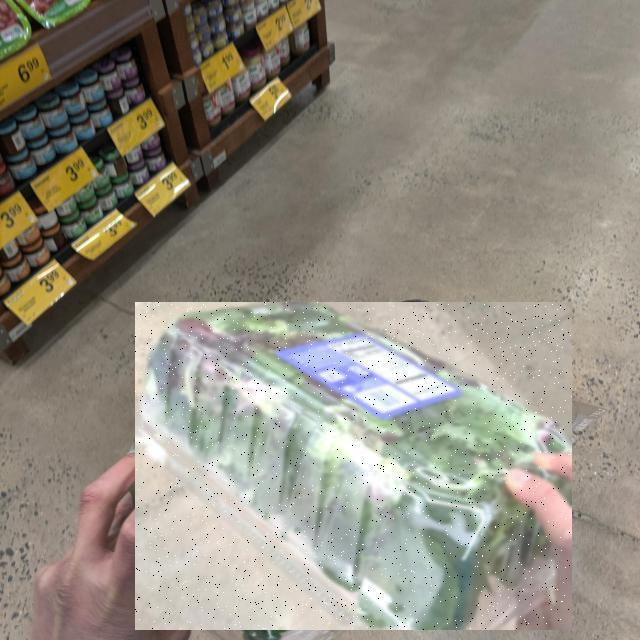Lettuce: (135, 302, 572, 630)
